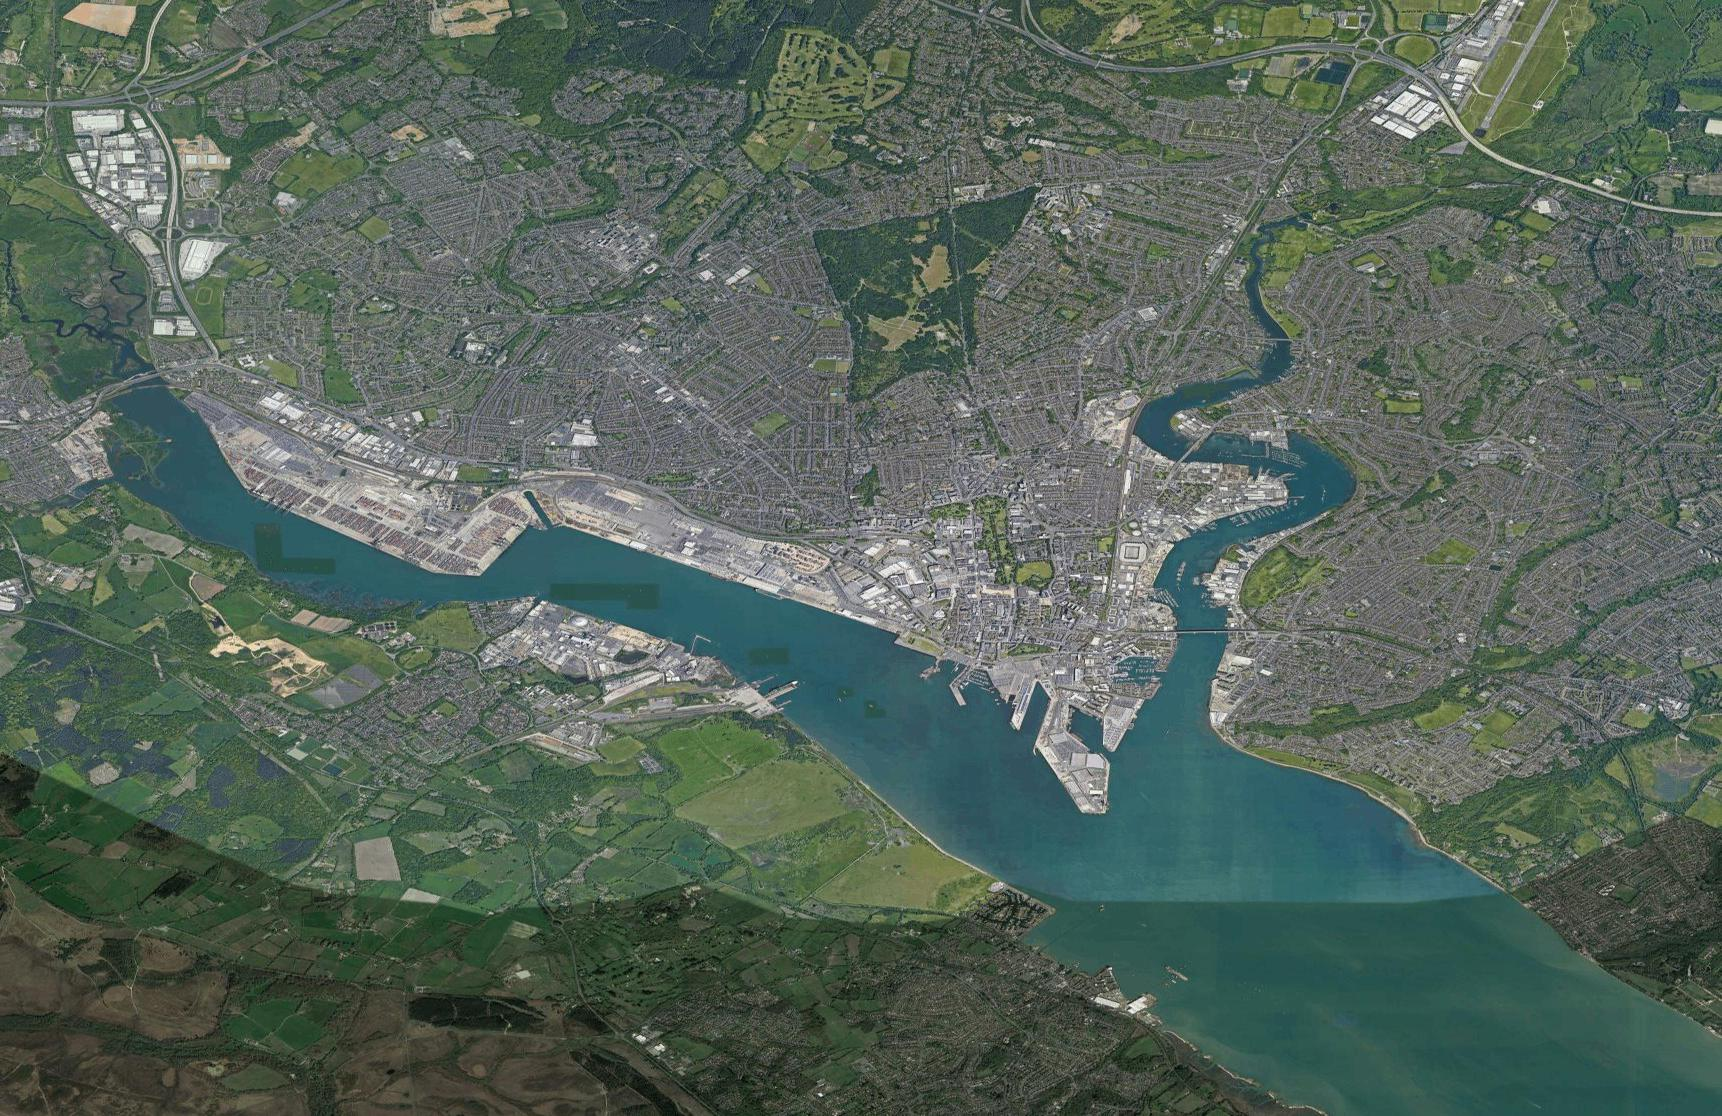bridge: (1168, 437, 1207, 461), (1171, 629, 1231, 636), (1268, 335, 1294, 346)
harbor: (941, 654, 1180, 827), (497, 480, 713, 653), (682, 624, 815, 733)
motorway: (1305, 36, 1455, 112), (1447, 112, 1574, 186), (1568, 177, 1722, 222), (1014, 1, 1111, 69), (1110, 41, 1307, 74)
